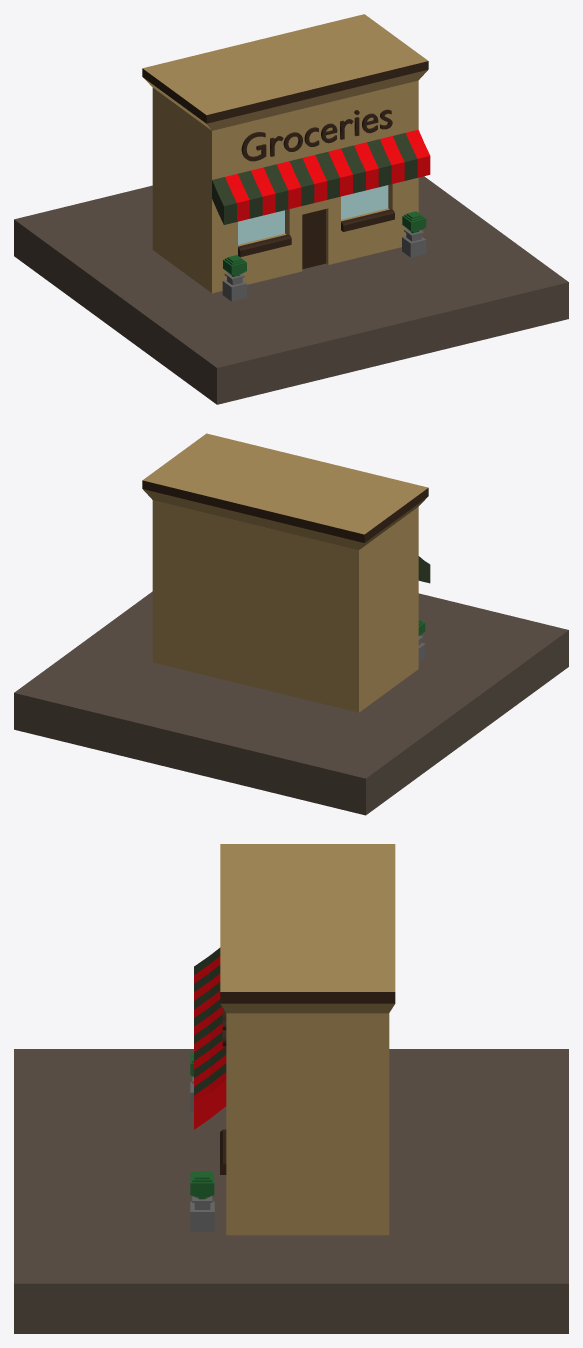
The model's file is shop-small.glb.
The picture shows the model from 3 angles, top to bottom: view 1: azimuth 30°, elevation 25°; view 2: azimuth 150°, elevation 25°; view 3: azimuth 270°, elevation 25°; orthographic projection. The views are drawn at different scales.
Parts seen in each view (by area): view 1: Groceries::Simple; view 2: Groceries::Simple; view 3: Groceries::Simple.
Part boxes in pixels (bbox=[...]): Groceries::Simple: bbox=[14, 14, 568, 404]; Groceries::Simple: bbox=[14, 433, 568, 815]; Groceries::Simple: bbox=[14, 844, 568, 1333].
Bounding box in the file's own units: 1 × 0.5936 × 1.
